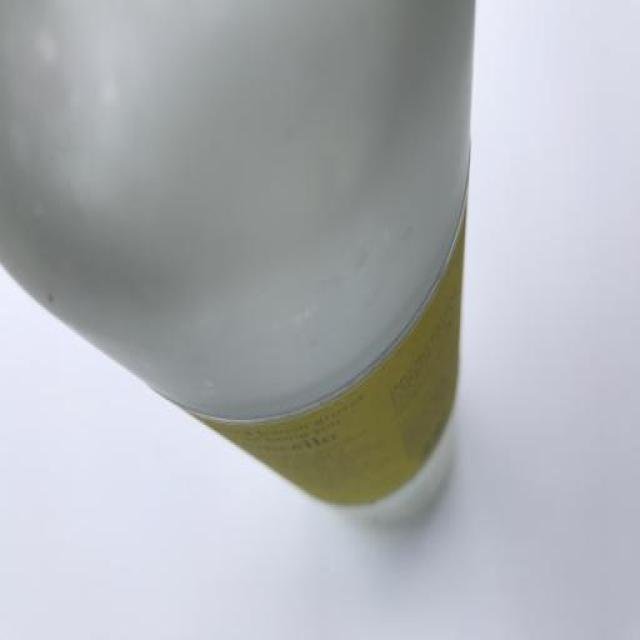Glass: (0, 0, 480, 522)
